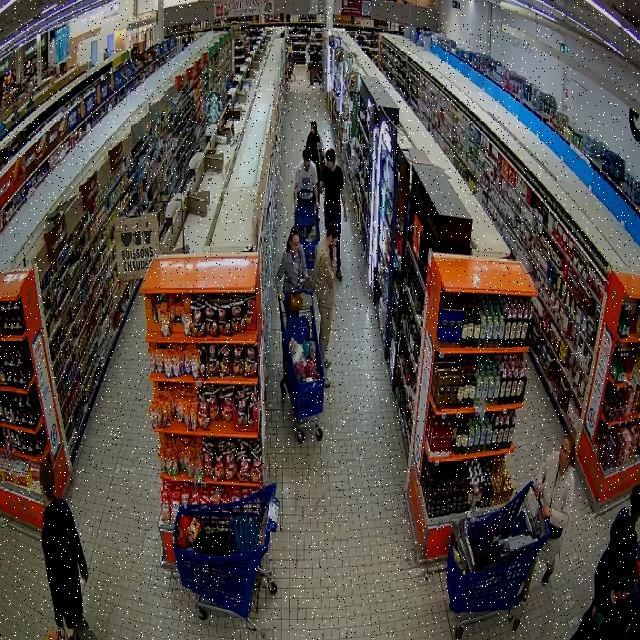hands: (535, 483, 543, 500), (541, 505, 551, 517)
person: (42, 462, 95, 639), (535, 434, 574, 583), (314, 221, 340, 368), (276, 227, 308, 299), (320, 148, 346, 229), (295, 149, 317, 211), (305, 120, 321, 178), (516, 564, 534, 604), (336, 241, 340, 279)
